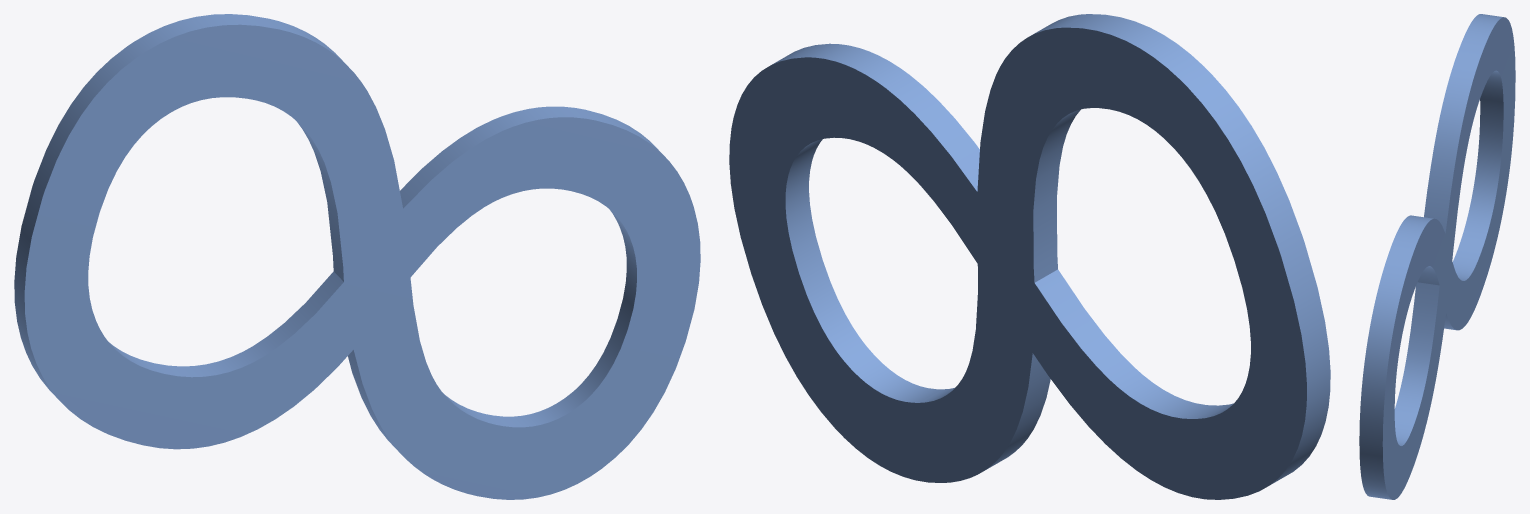
The model's file is New_Number_8.gltf.
The picture shows the model from 3 angles, left to right: view 1: azimuth 30°, elevation 25°; view 2: azimuth 150°, elevation 25°; view 3: azimuth 270°, elevation 25°; orthographic projection. The views are drawn at different scales.
Parts seen in each view (by area): view 1: Part 476; view 2: Part 476; view 3: Part 476.
Boxes of the visible parts, x1,y1,x2,y2 form: Part 476: (14, 14, 700, 499); Part 476: (729, 14, 1330, 499); Part 476: (1359, 14, 1515, 499).
Size of the model in its own units: 0.00553 by 0.00436 by 0.00166.
